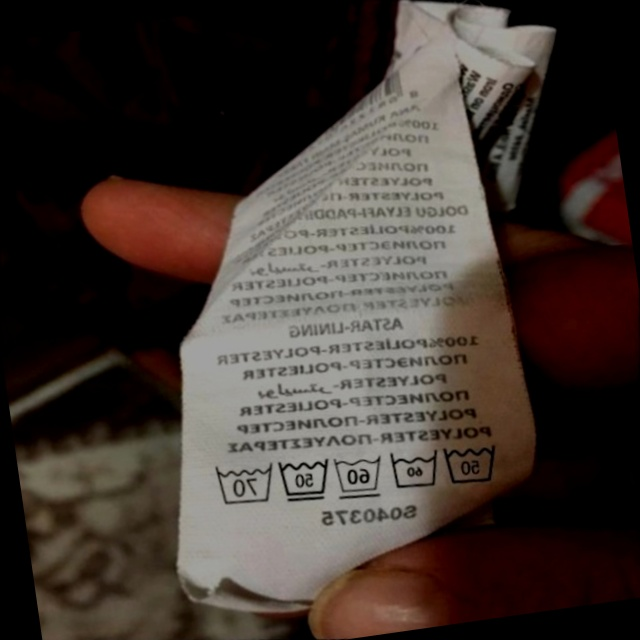50C: (433, 429, 509, 496), (269, 448, 338, 512)
60C: (324, 444, 390, 507), (380, 439, 446, 500)
70C: (203, 452, 279, 515)
